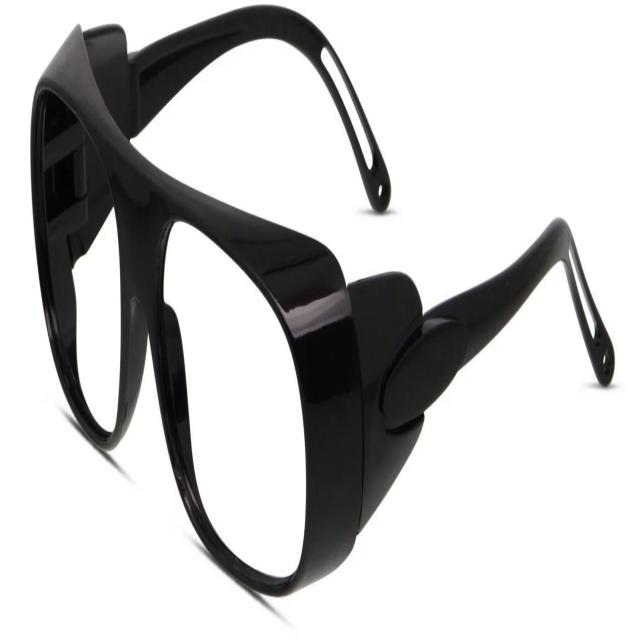Protective Glasses: (4, 2, 638, 621)
